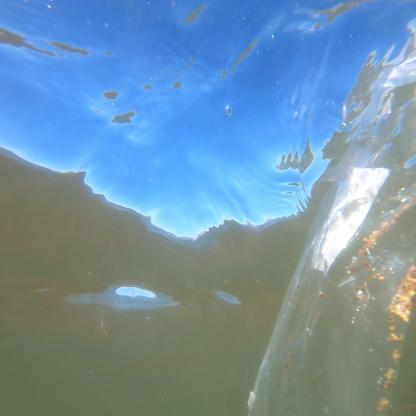Rác: (262, 149, 410, 408)
